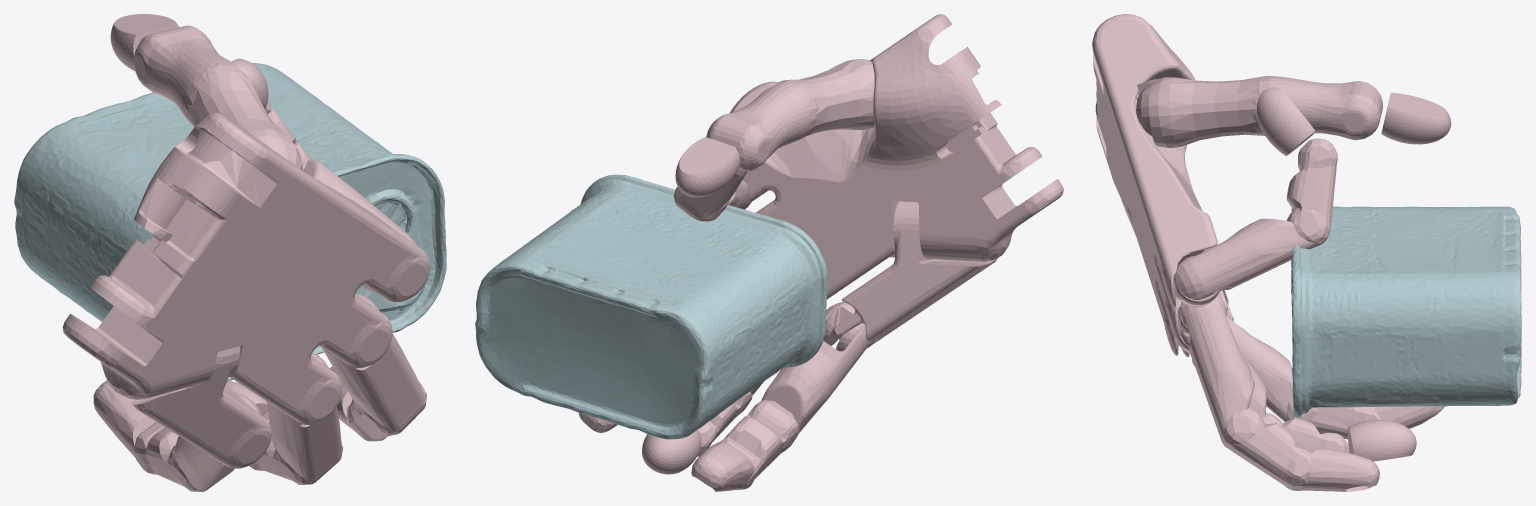
Rendered from grasp_5.glb.
3 renders of one model, left to right at view 1: azimuth 30°, elevation 25°; view 2: azimuth 150°, elevation 25°; view 3: azimuth 270°, elevation 25°, orthographic. The views are drawn at different scales.
Visible parts, largest first — view 1: world; view 2: world; view 3: world.
Part boxes in pixels (left/top/right/bottom): world: left=14, top=14, right=446, bottom=491; world: left=475, top=14, right=1063, bottom=491; world: left=1092, top=14, right=1521, bottom=491.
Bounding box in the file's own units: 0.1625 × 0.1569 × 0.1557.
